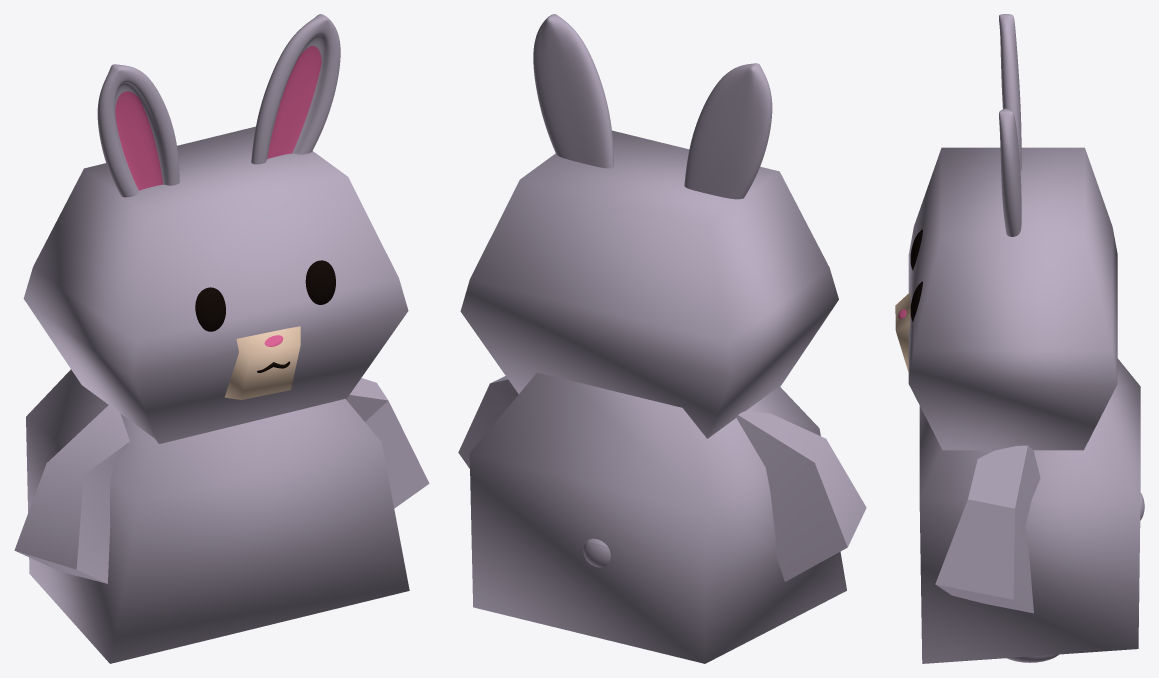
File: Conejo_Complice.glb
3 views of the same model, side by side, from view 1: azimuth 30°, elevation 25°; view 2: azimuth 150°, elevation 25°; view 3: azimuth 270°, elevation 25° (orthographic). The views are drawn at different scales.
Parts seen in each view (by area): view 1: Cube, Cube.001, Cube.010, Cube.003, Cube.006, Cube.008; view 2: Cube, Cube.001, Cube.010, Cube.003, Cube.004; view 3: Cube, Cube.001, Cube.003, Cube.010, Cube.006, Cube.008.
Boxes of the visible parts, x1,y1,x2,y2 form: Cube: (23, 126, 408, 443); Cube.001: (26, 369, 409, 663); Cube.010: (97, 14, 340, 197); Cube.003: (14, 378, 429, 583); Cube.006: (224, 326, 300, 399); Cube.008: (195, 260, 335, 331); Cube: (460, 130, 838, 438); Cube.001: (469, 372, 846, 663); Cube.010: (533, 14, 772, 199); Cube.003: (458, 376, 866, 581); Cube.004: (583, 538, 610, 567); Cube: (908, 147, 1117, 450); Cube.001: (919, 358, 1140, 663); Cube.003: (935, 445, 1040, 613); Cube.010: (999, 14, 1021, 236); Cube.006: (895, 292, 910, 372); Cube.008: (910, 229, 922, 321).
Size of the model in its own units: 1.92 by 2.73 by 1.09.
